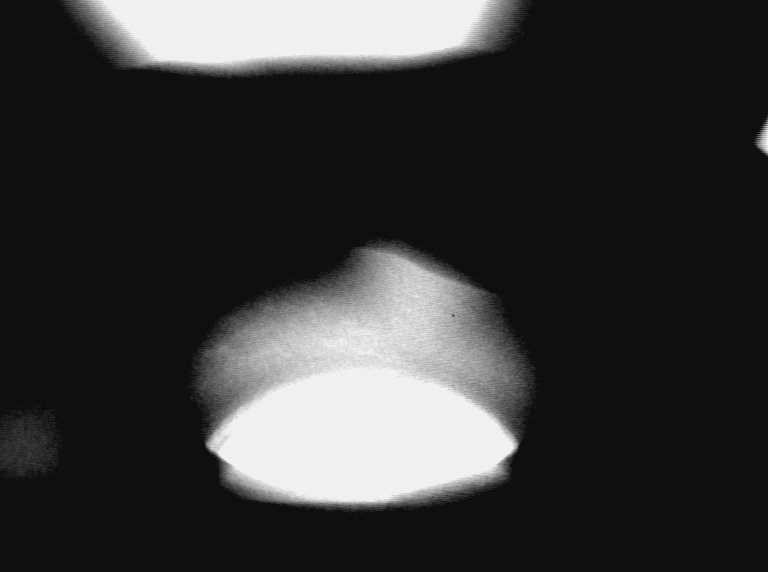defect: (361, 236, 499, 306)
